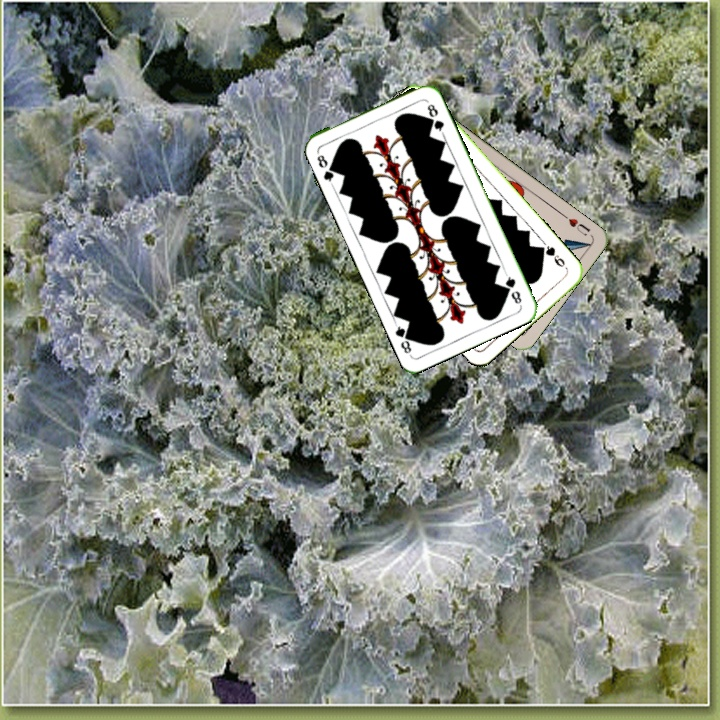G8: (313, 151, 339, 187), (501, 270, 524, 307)
G9: (536, 242, 570, 272)
HU: (559, 210, 593, 239)
